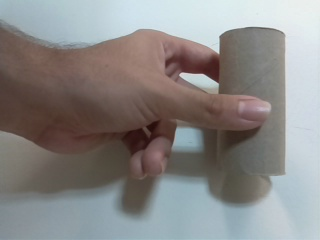rollo papel: (212, 25, 289, 182)
